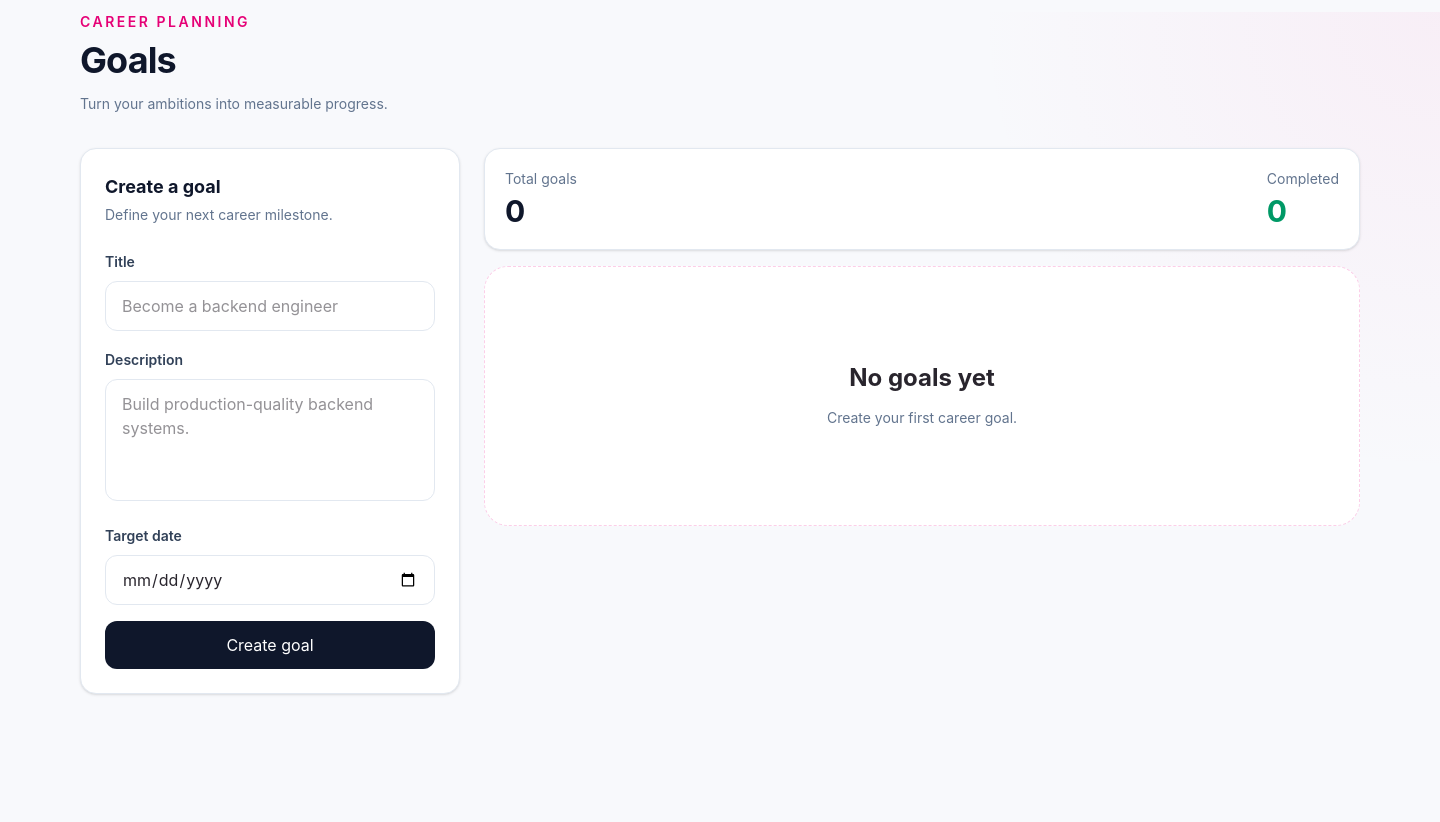
Test case: Goals › creates a new goal successfully
Expected: the heading "No goals yet" is shown, [849, 362, 995, 394]
Type "Learn React" into the field labelled "Title" at (270, 306), box [105, 281, 435, 331]
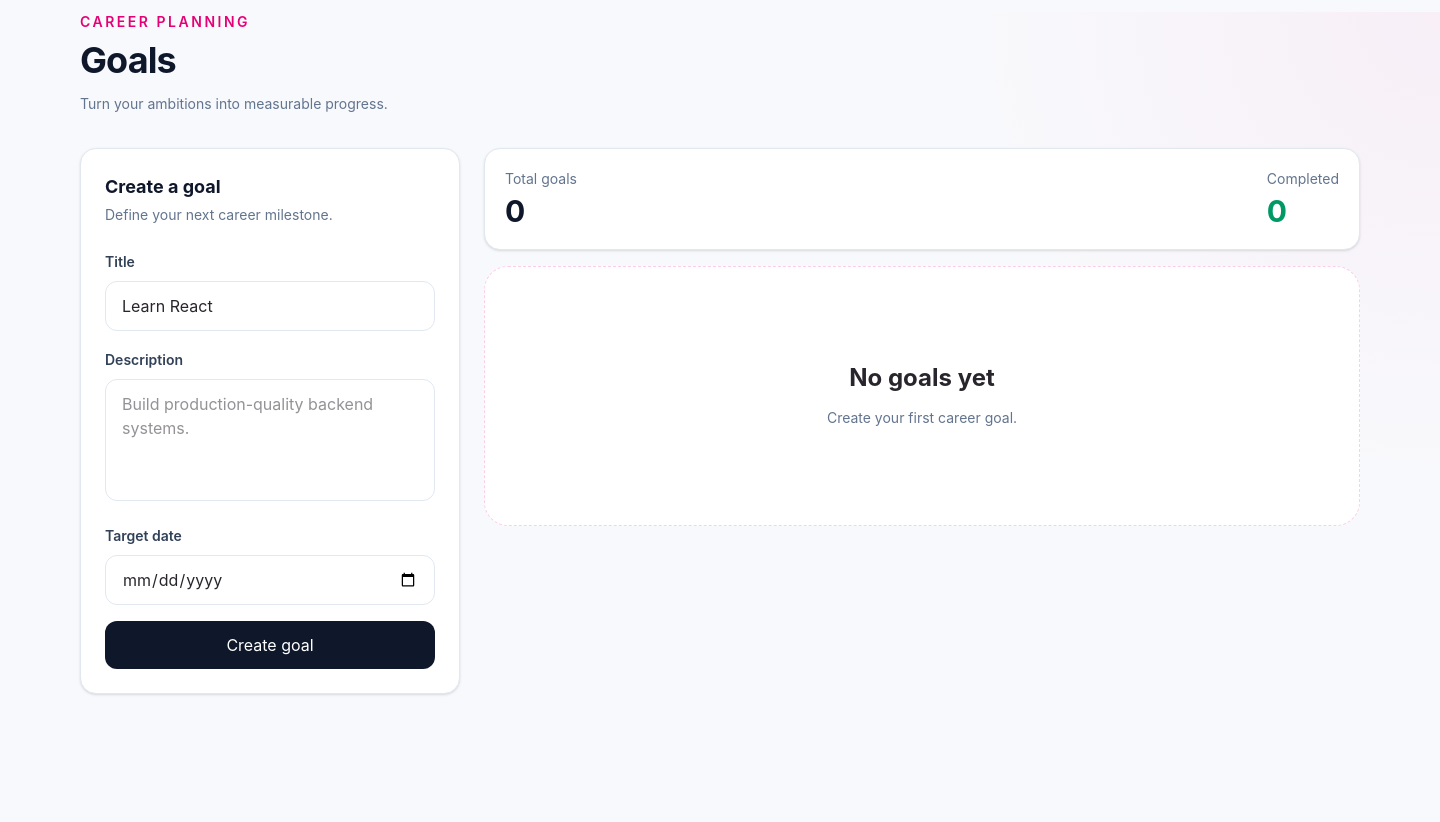
Type "Build modern frontend applications." into the text box labelled "Description" at (270, 440), box [105, 379, 435, 501]
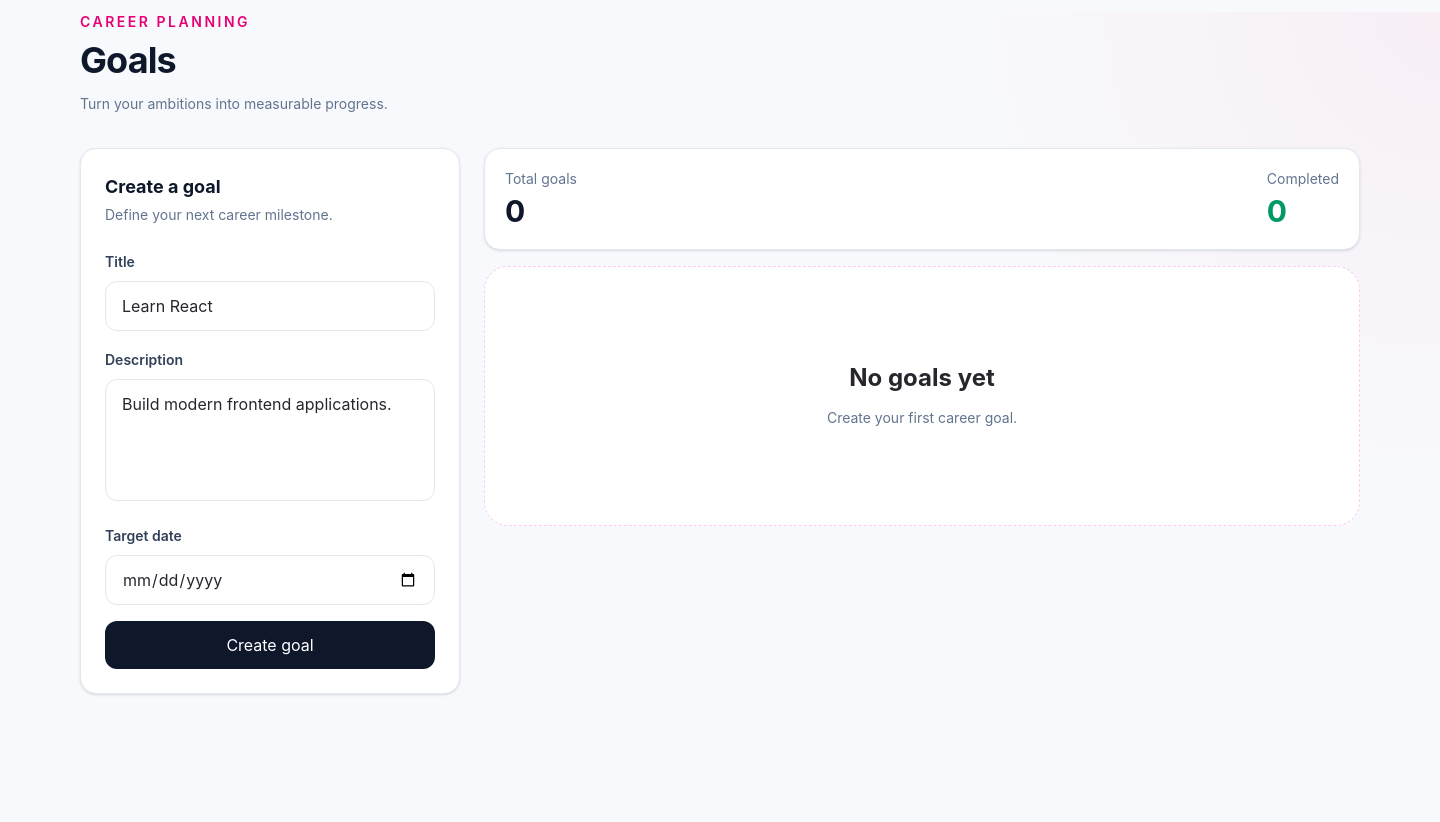
Type "2026-10-01" into the date field labelled "Target date" at (270, 580), box [105, 555, 435, 605]
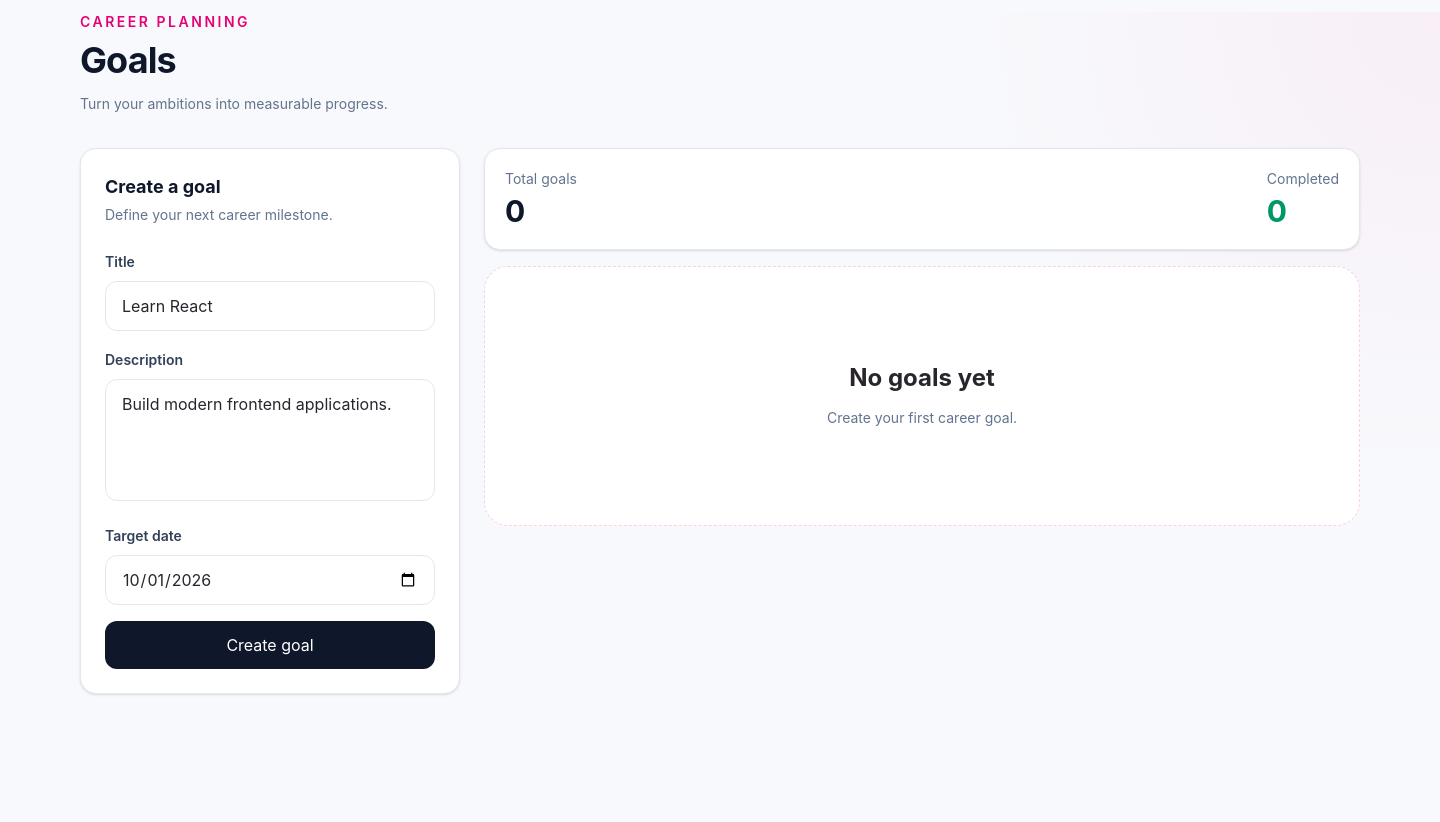
Click the button "Create goal" at (270, 645), box [105, 621, 435, 669]
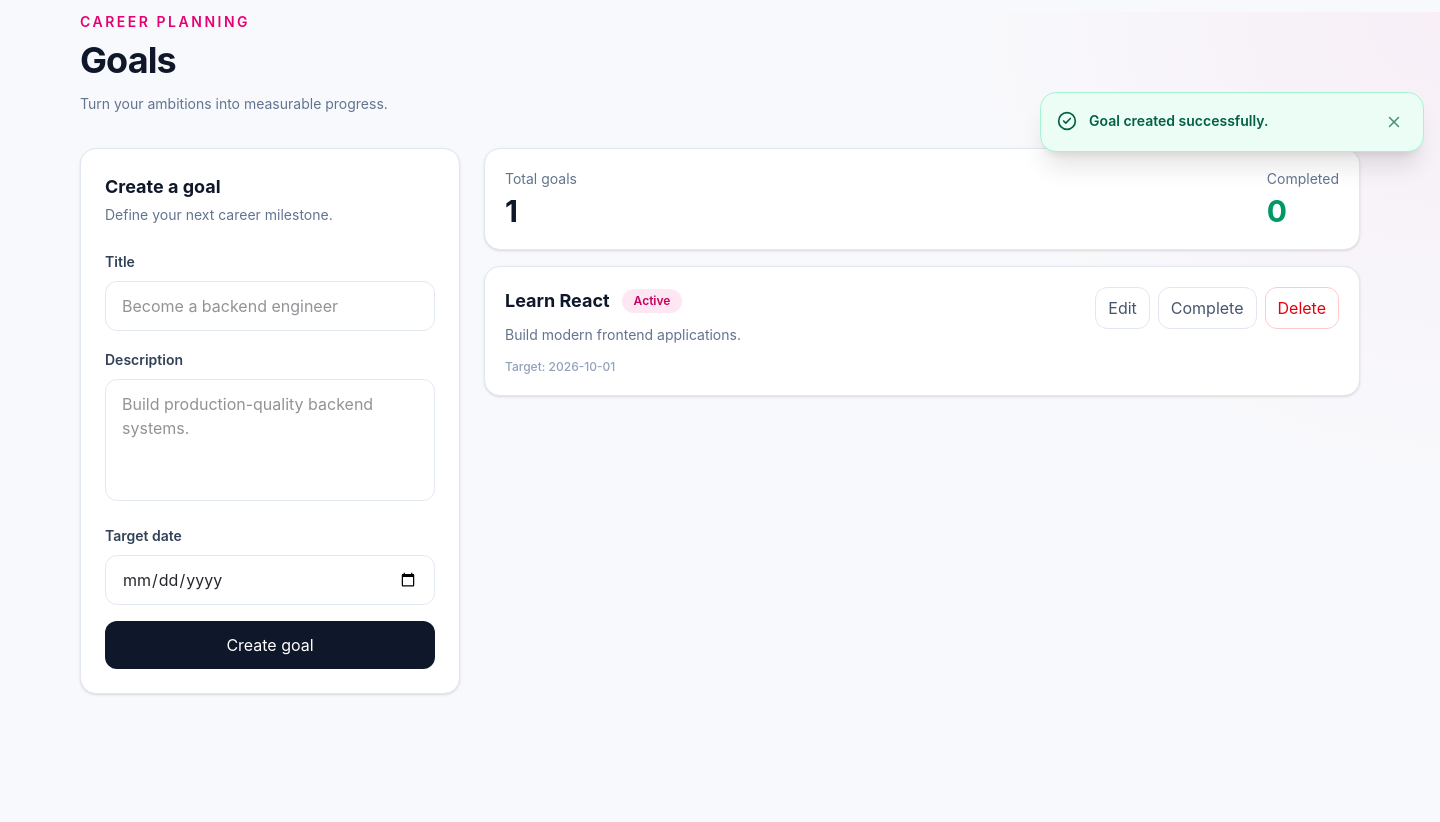
Expected: the heading "Learn React" is shown, [505, 287, 610, 315]
